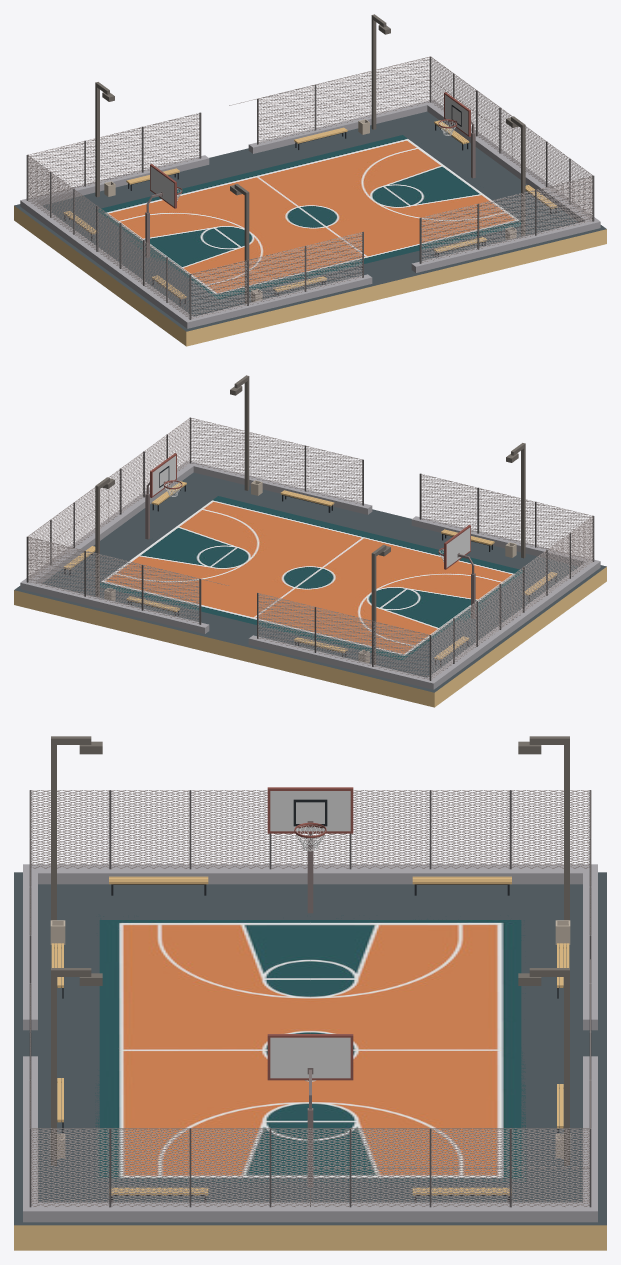
Rendered from Basketball_Court -3D.fbx.
3 renders of one model, top to bottom at view 1: azimuth 30°, elevation 25°; view 2: azimuth 150°, elevation 25°; view 3: azimuth 270°, elevation 25°, orthographic. The views are drawn at different scales.
Parts seen in each view (by area): view 1: Basketball_Net; view 2: Basketball_Net; view 3: Basketball_Net.
Boxes of the visible parts, bbox=[...] form: Basketball_Net: bbox=[14, 14, 606, 346]; Basketball_Net: bbox=[14, 375, 606, 707]; Basketball_Net: bbox=[14, 736, 606, 1250].
Bounding box in the file's own units: 579 × 169 × 411.
